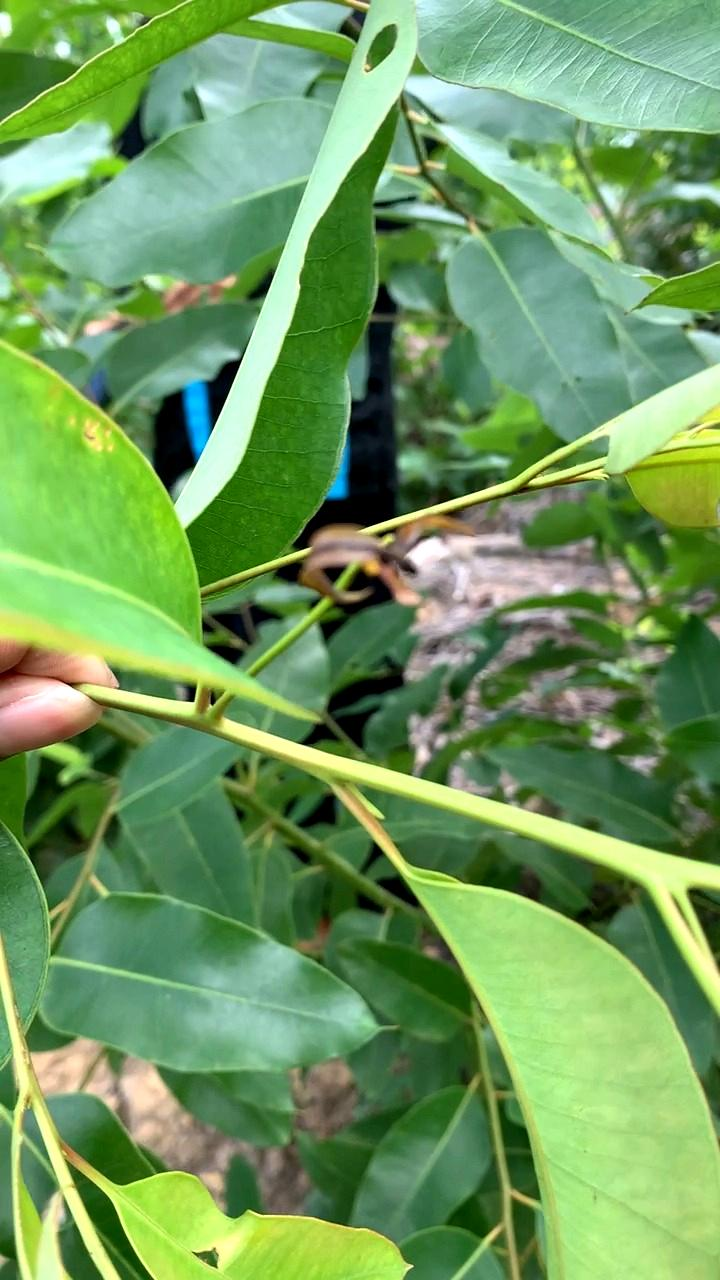Helopeltis-Withered Sprout: (295, 493, 485, 640)
